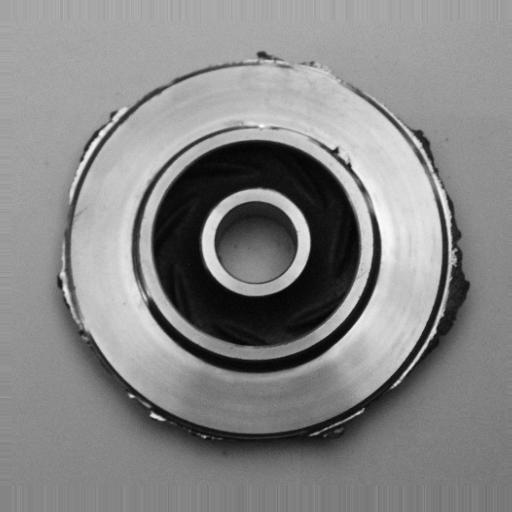casting_with_burr: (52, 48, 469, 450)
crack: (324, 132, 366, 181)
scratch: (225, 114, 313, 141), (133, 250, 158, 313)
